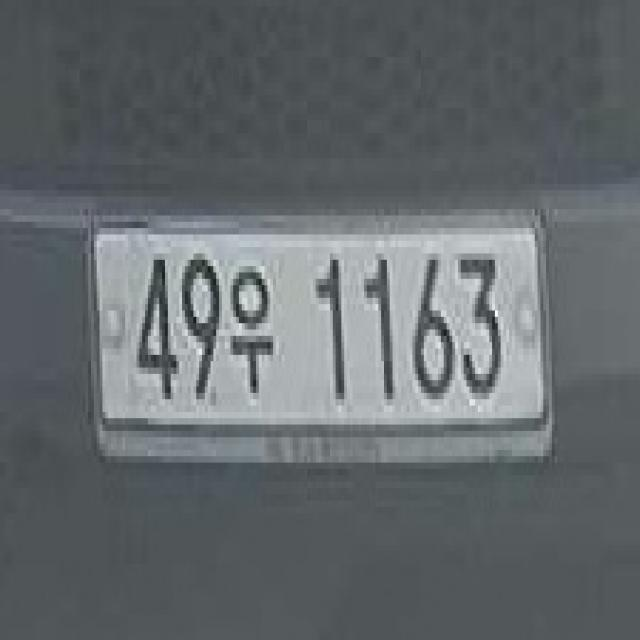1: (308, 251, 349, 411), (364, 250, 396, 412)
3: (460, 245, 502, 406)
4: (134, 252, 178, 408)
6: (410, 242, 456, 408)
9: (181, 251, 224, 408)
license_plate: (75, 187, 568, 509)
u: (226, 255, 278, 410)
